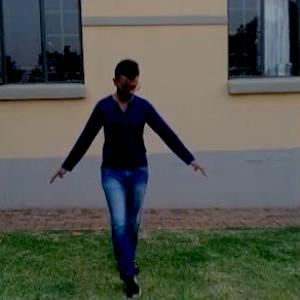land: (56, 41, 214, 283)
